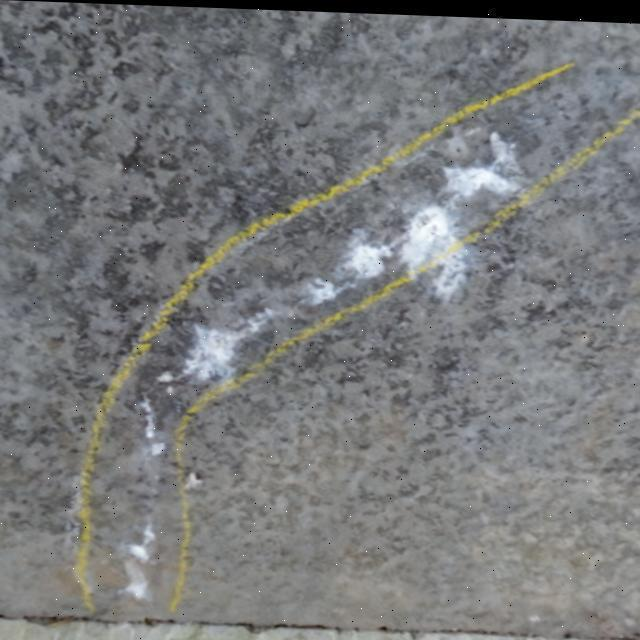D01: (402, 206, 469, 301), (186, 322, 257, 380), (186, 326, 241, 381), (446, 162, 517, 196), (346, 238, 393, 276)
